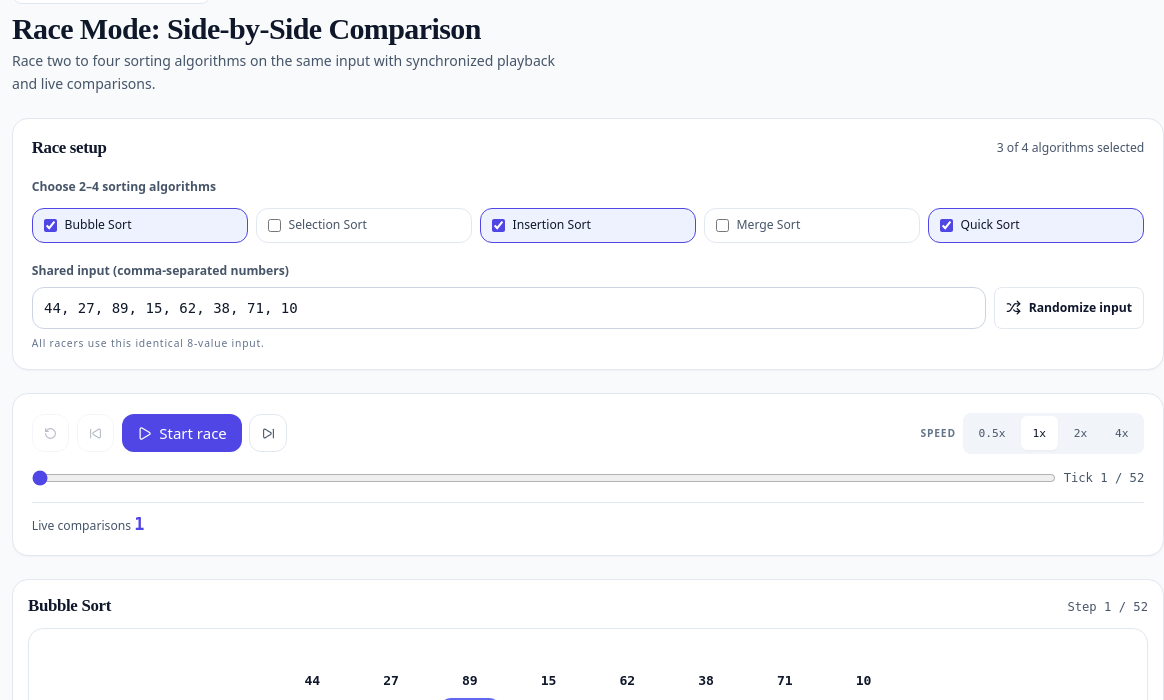
RaceModePage › runs selected algorithms on the same input with synchronized stepping and final totals
The image size is (1164, 700).
Expected: the text "3 of 4 algorithms selected" is shown, [997,139,1144,157]
Expected: the text named "Live total comparisons" is shown, [134,514,144,534]
Set the slider named "Race timeline" to "51" at (1048, 478), box [32,470,1056,486]
(page scrolled)
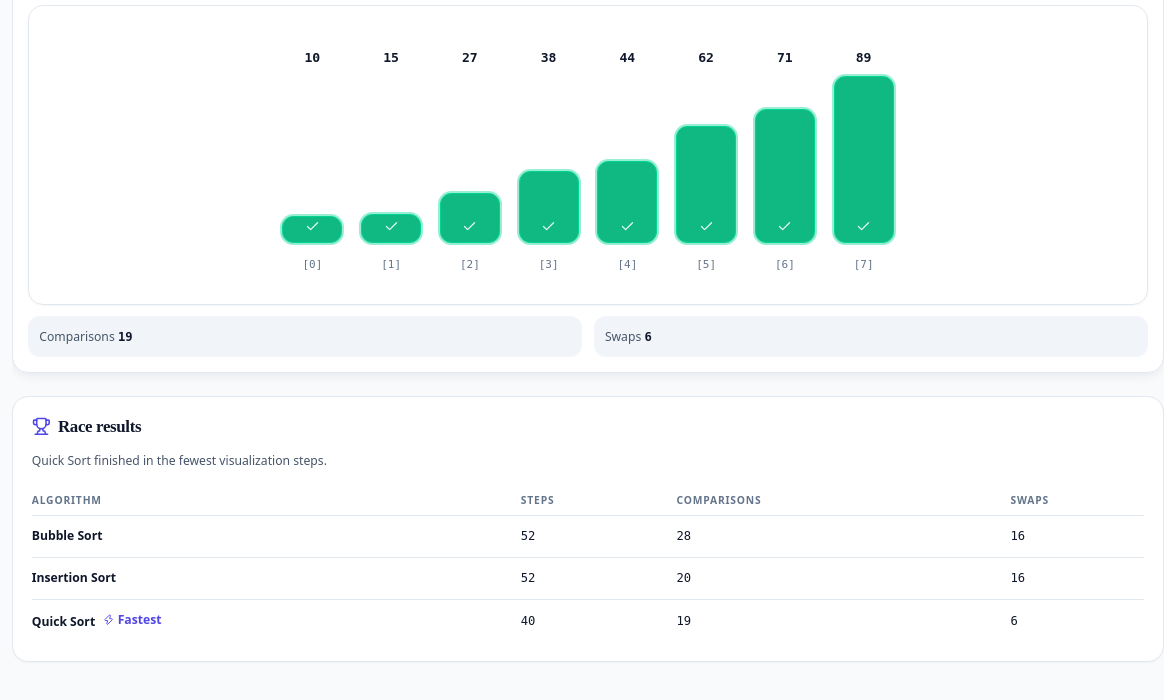
Expected: the heading "Race results" is shown, [58,416,141,437]
Expected: the text "Fastest" is shown, [103,611,162,629]
